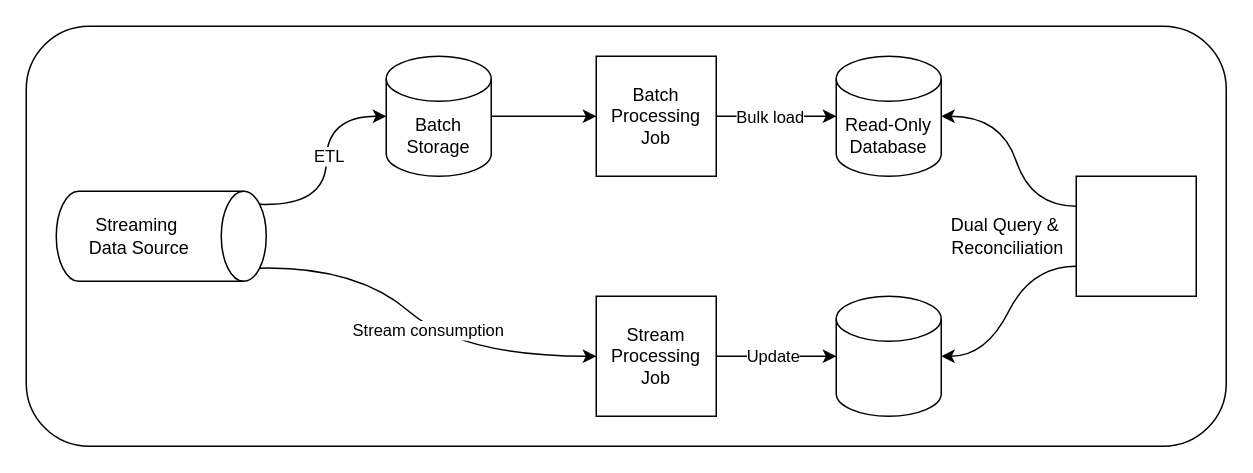
The diagram is 1253 pixels wide and 473 high, and some of its shapes have lost their labels. Here are the shapes that lost their labels. From the top down, the centre of each, then its label:
At point (1135, 235): "Online Application".
At point (888, 355): "Read-Write Database".
